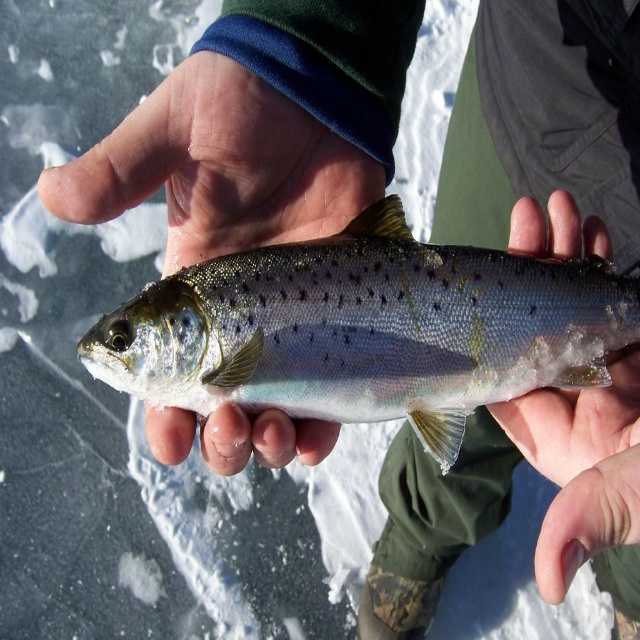Fish: (76, 194, 640, 467)
